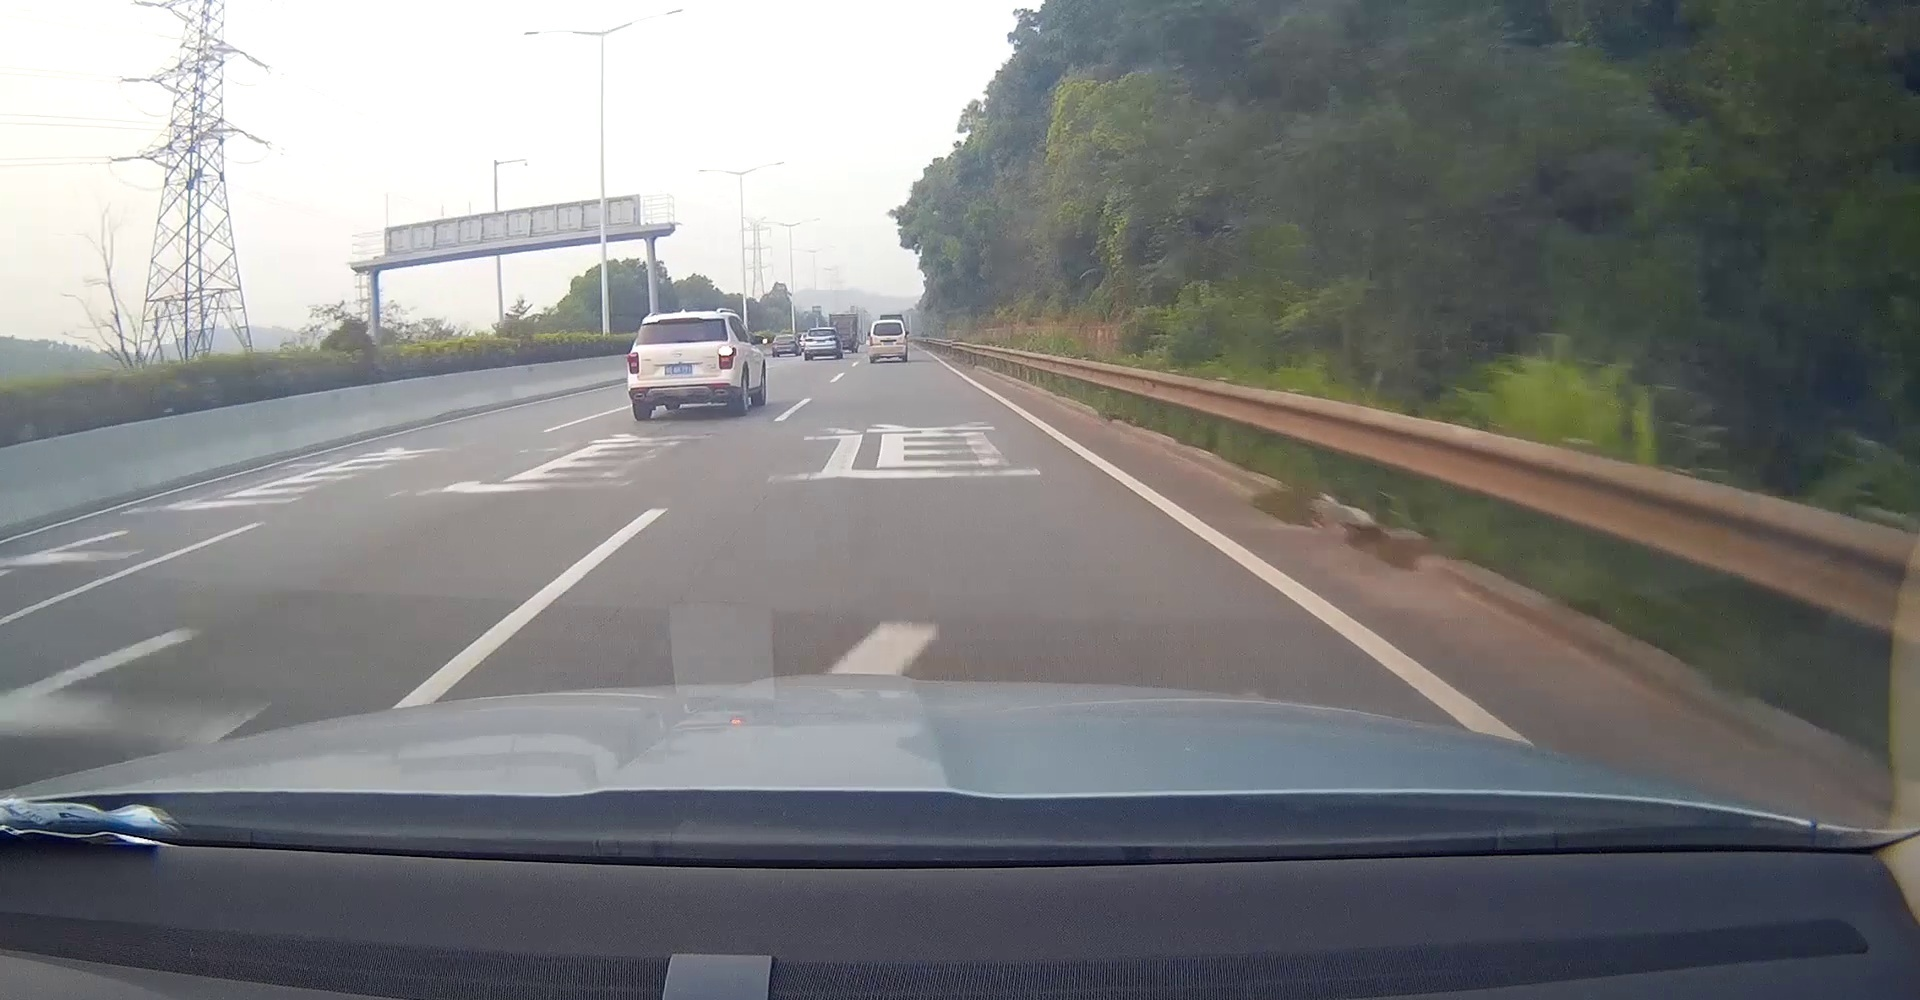L_light: (629, 352, 639, 376), (869, 336, 872, 346), (806, 338, 813, 341)
R_light: (719, 346, 733, 371), (903, 335, 907, 345), (828, 338, 837, 340)
T_light: (659, 317, 700, 322), (818, 329, 825, 331), (884, 322, 891, 325)
day-no: (869, 319, 908, 363), (804, 327, 841, 360)
day-right: (626, 311, 742, 420)
